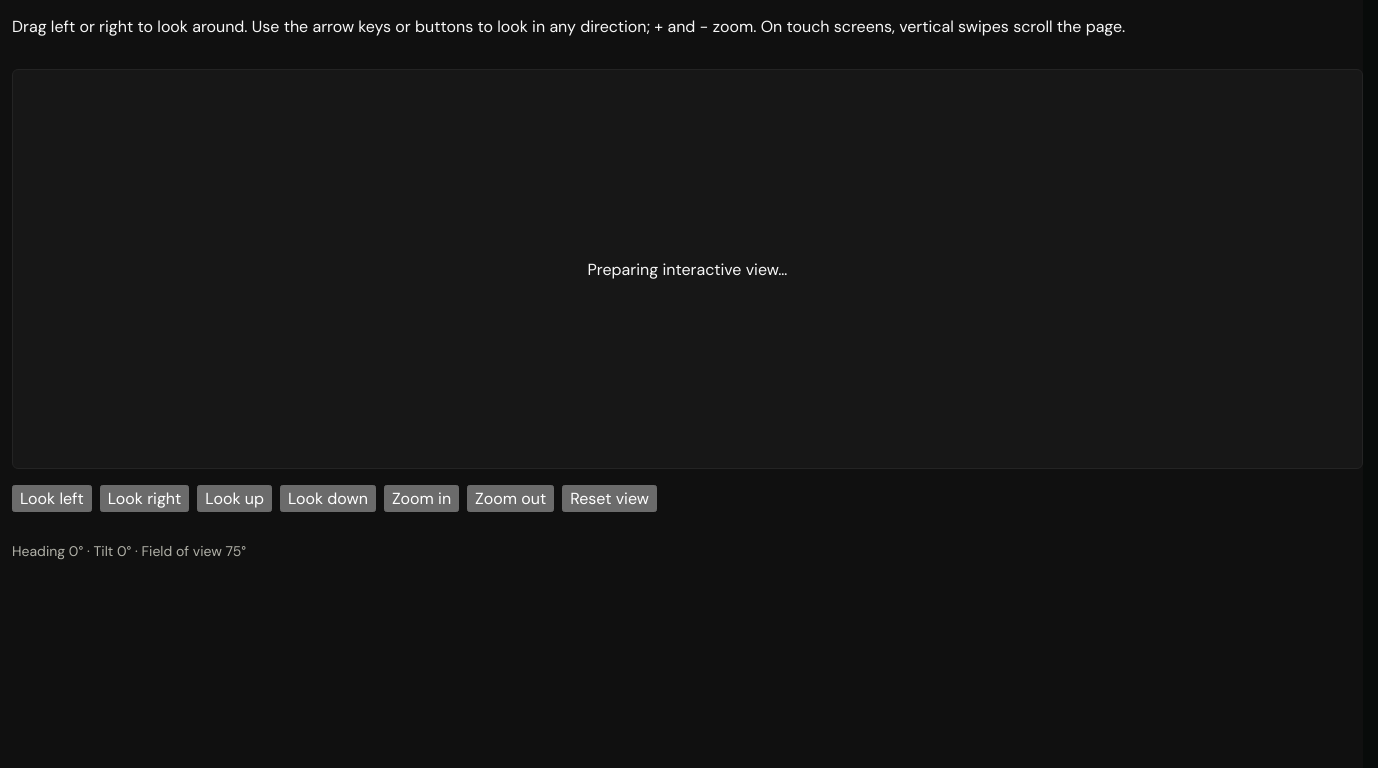
Test: stops dragging on cancellation and preserves vertical touch scrolling
Press the mouse on the element named "Interactive native panorama" at (688, 269), box [12,69,1363,469]
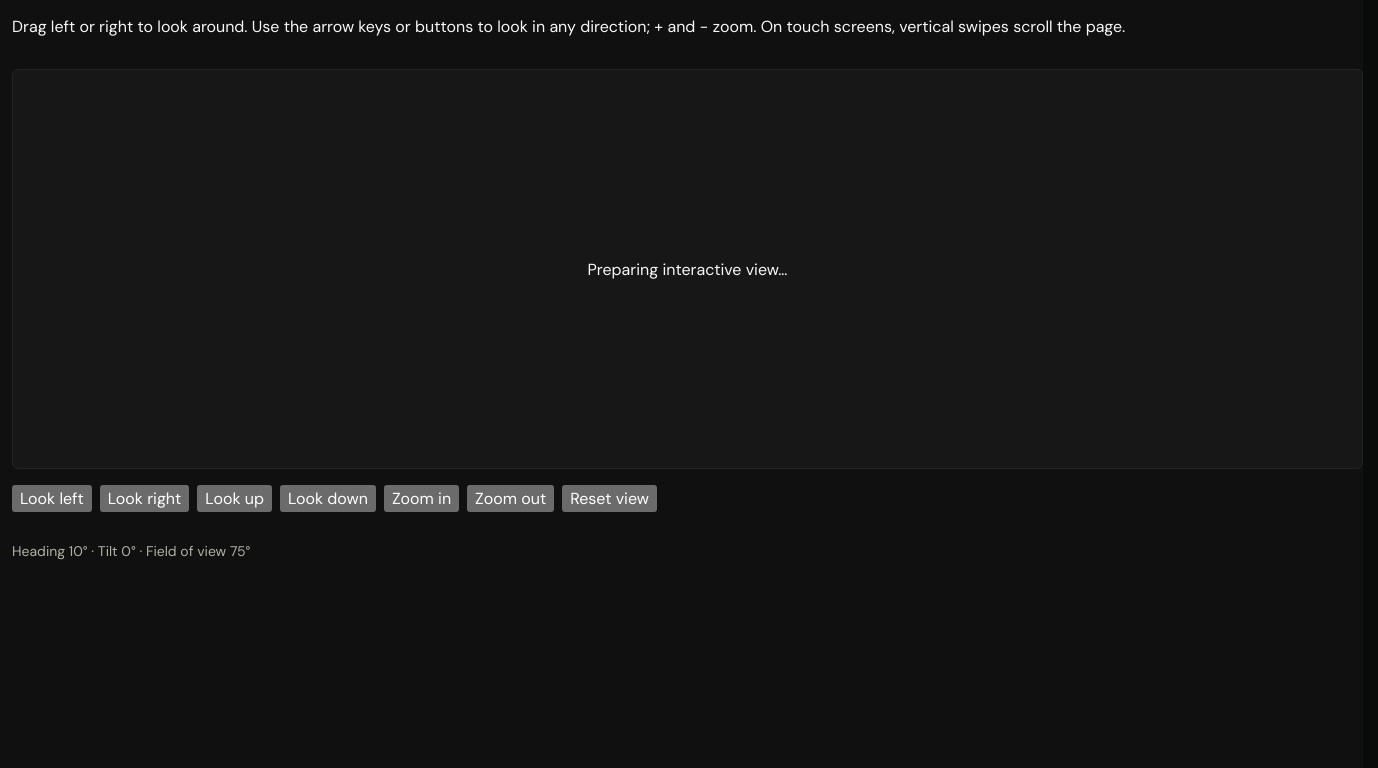
Result: the text "Heading 10° · Tilt 0° · Field of view 75°" is shown at [12,542,250,560]
